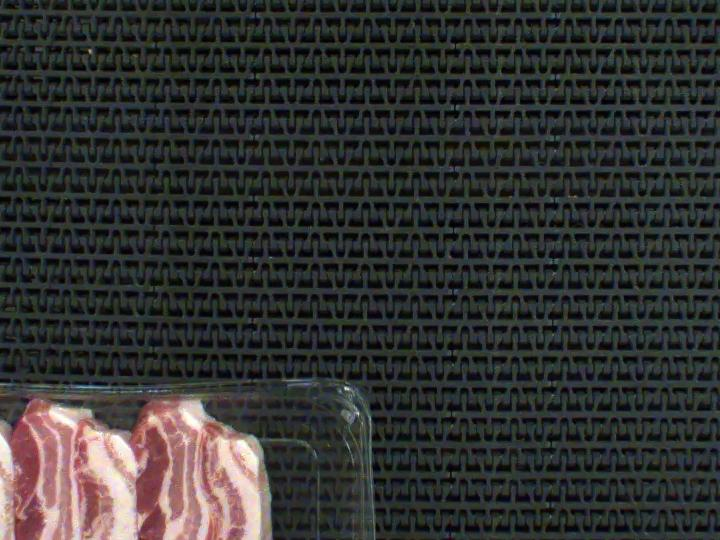packaging-error: (0, 356, 246, 477)
